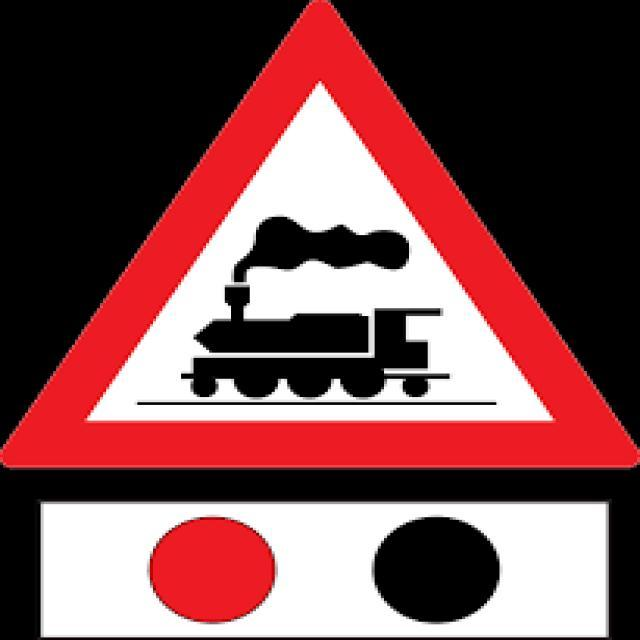unguarded level crossing: (34, 28, 586, 471)
